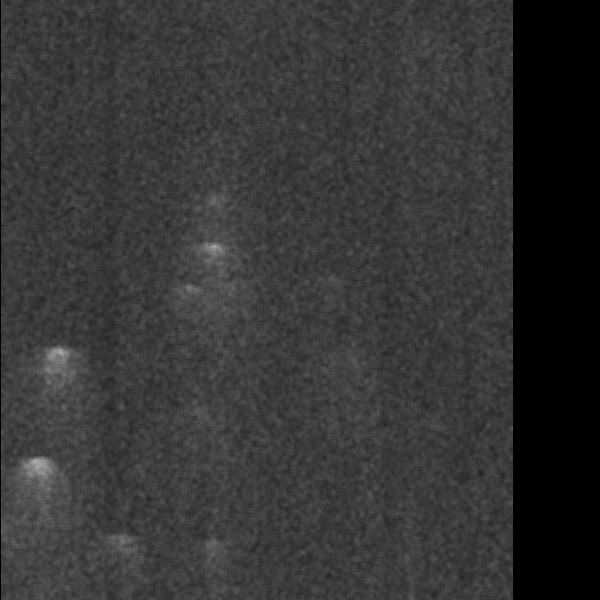spark: (10, 452, 63, 530), (158, 281, 223, 309), (39, 343, 78, 388), (193, 240, 230, 270), (111, 530, 134, 570), (201, 534, 223, 574), (201, 190, 226, 211)
